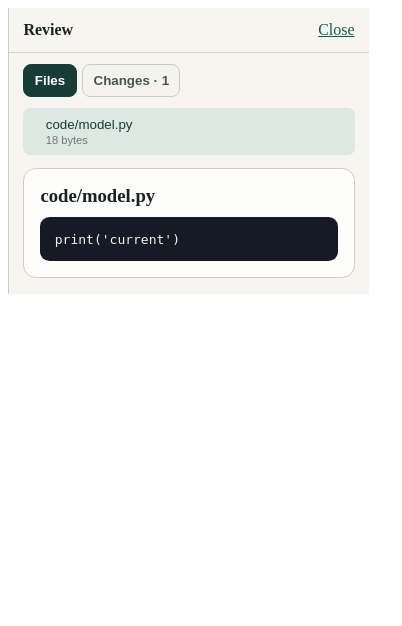
capability-driven review rail › supports file review, keyboard resizing, local progress, and whole-set apply receipts
Expected: the text "print('current')" is shown, [55,232,180,246]
Press ArrowLeft in the element named "Resize review rail", box [3,8,15,294]
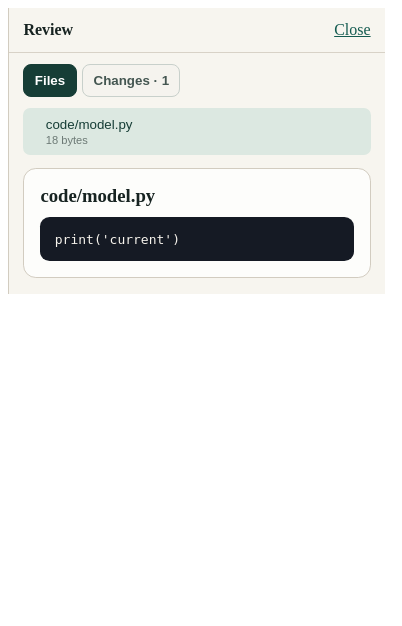
Click the button "Changes · 1" at coordinates (131, 80), box [82,64,180,97]
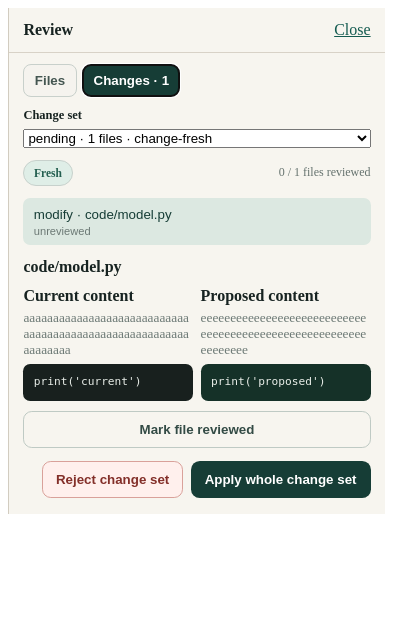
Expected: the text "0 / 1 files reviewed" is shown, [279,166,371,180]
Click the button "Mark file reviewed" at coordinates (197, 430), box [23,411,371,448]
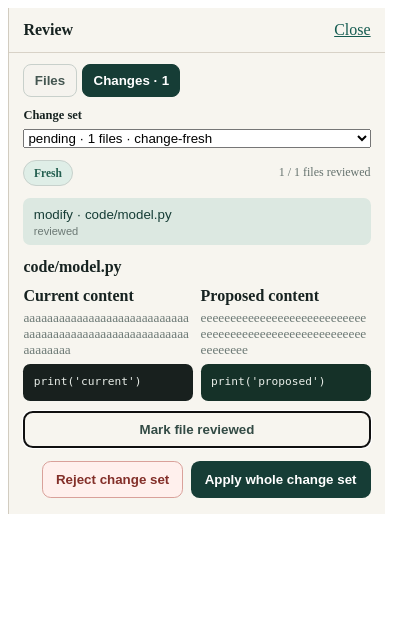
Expected: the text "1 / 1 files reviewed" is shown, [279,166,371,180]
Click the button "Apply whole change set" at coordinates (281, 479), box [191,461,371,498]
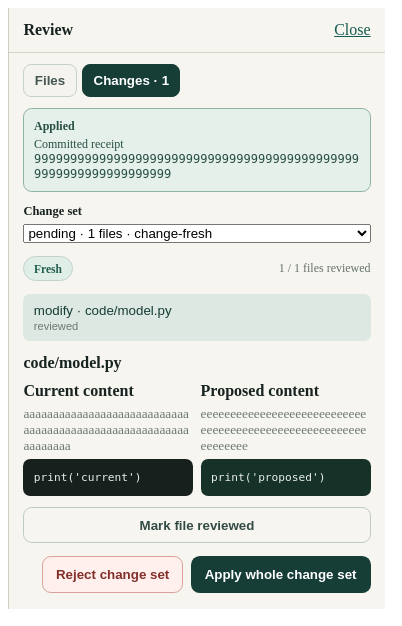
Expected: the message shows "Applied", [34,119,75,133]
